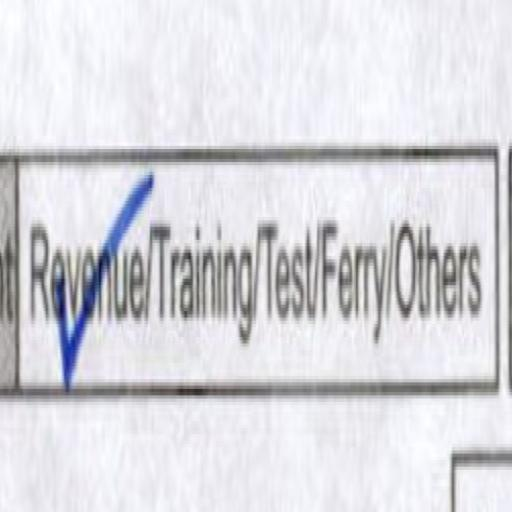check: (21, 114, 148, 430)
